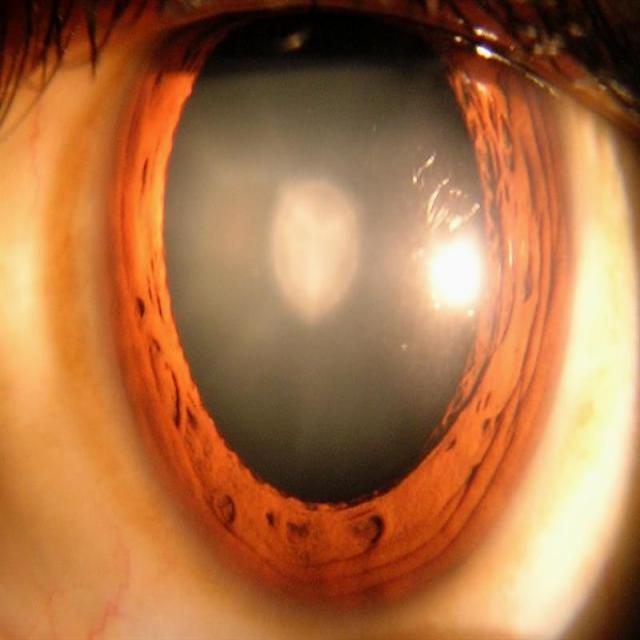Cataract: (55, 30, 594, 564)
